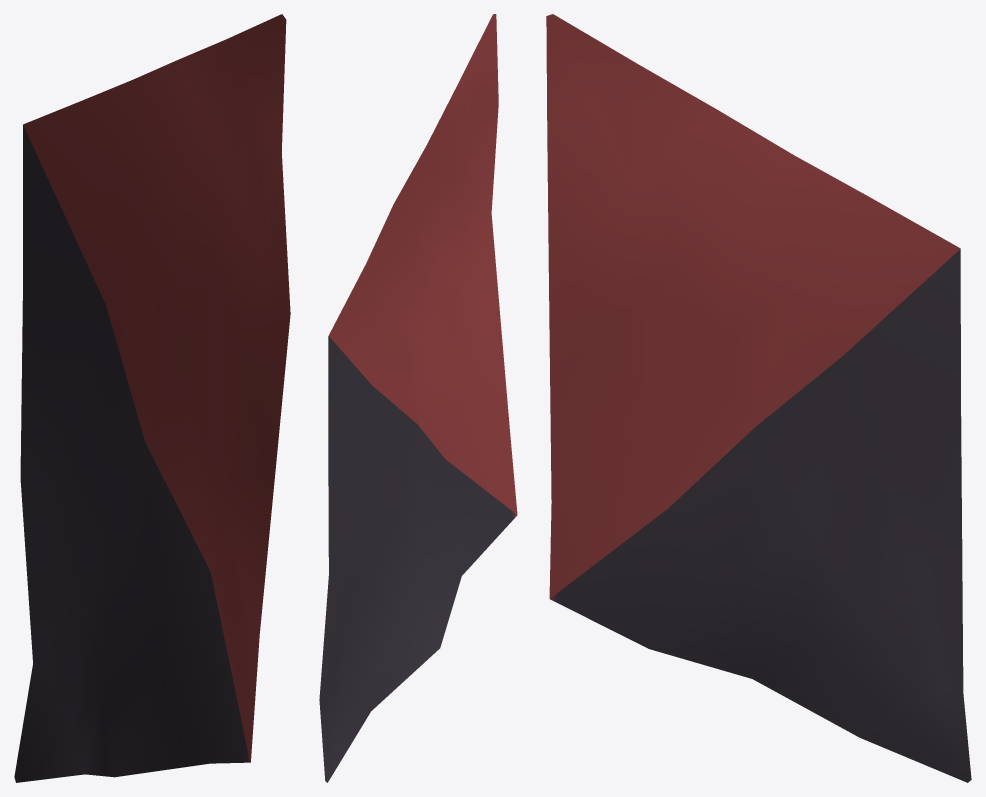
The model's file is Flag_03.fbx.
3 renders of one model, left to right at view 1: azimuth 30°, elevation 25°; view 2: azimuth 150°, elevation 25°; view 3: azimuth 270°, elevation 25°, orthographic. The views are drawn at different scales.
Parts seen in each view (by area): view 1: Flag_03; view 2: Flag_03; view 3: Flag_03.
Boxes of the visible parts, left/top/right/bottom form: Flag_03: left=14, top=14, right=290, bottom=782; Flag_03: left=319, top=14, right=517, bottom=782; Flag_03: left=546, top=14, right=971, bottom=782.
Size of the model in its own units: 8.89 by 149 by 74.26.
1 material, 1 textured.
